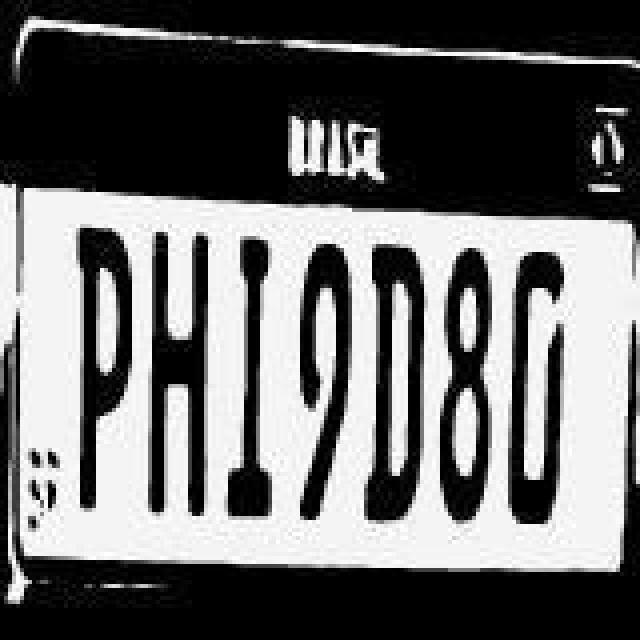8: (436, 222, 508, 522)
9: (296, 228, 360, 524)
D: (500, 228, 572, 524), (360, 246, 432, 530)
H: (146, 224, 230, 536)
I: (226, 232, 294, 520)
P: (66, 218, 134, 526)
